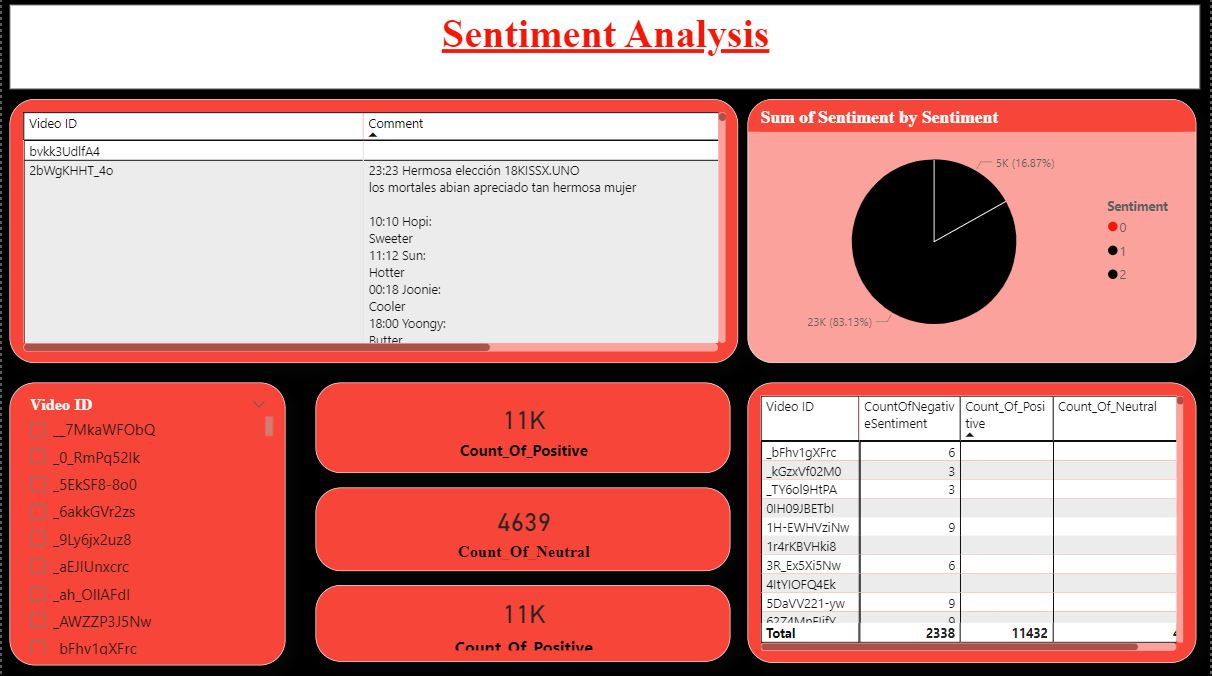

The page's visual inventory and layout, read from the dashboard file:
{"tool":"powerbi","page":{"name":"Page 3","canvas":[1280,720],"ordinal":2},"visuals":[{"type":"tableEx","fields":{"Values":["comments.Video ID","comments.Comment"]},"box":[8.6,108.6,772.9,280],"z":0},{"type":"pieChart","fields":{"Y":["comments.Sentiment"],"Series":["comments.Sentiment"]},"box":[790,108.6,475.7,280],"z":1000},{"type":"slicer","fields":{"Values":["comments.Video ID"]},"box":[8.6,408.6,292.9,300],"z":2000},{"type":"card","fields":{"Values":["comments.Count_Of_Positive"]},"box":[332.9,408.6,440,95.7],"z":3000},{"type":"card","fields":{"Values":["comments.CountOfpostives"]},"box":[332.9,520,440,88.6],"z":4000},{"type":"card","fields":{"Values":["comments.Count_Of_Positive"]},"box":[332.9,624.3,440,81.4],"z":5000},{"type":"pivotTable","fields":{"Rows":["comments.Video ID"],"Values":["comments.CountOfNegativeSentiment","comments.Count_Of_Positive","comments.Count_Of_Neutral"]},"box":[790,408.6,475.7,297.1],"z":6000},{"type":"textbox","box":[8.6,8.6,1262.9,90],"z":7000}]}

Visuals, with their boxes in screenshot pixels (x1, y1, x2, y2), scaled from the page's 1280x720 canvas onto the 1212x676 screenshot:
tableEx - comments.Video ID x comments.Comment: rect(8, 102, 740, 365)
pieChart - comments.Sentiment x comments.Sentiment: rect(748, 102, 1198, 365)
slicer - comments.Video ID: rect(8, 384, 285, 665)
card - comments.Count_Of_Positive: rect(315, 384, 732, 473)
card - comments.CountOfpostives: rect(315, 488, 732, 571)
card - comments.Count_Of_Positive: rect(315, 586, 732, 663)
pivotTable - comments.Video ID x comments.CountOfNegativeSentiment: rect(748, 384, 1198, 663)
textbox: rect(8, 8, 1204, 93)
